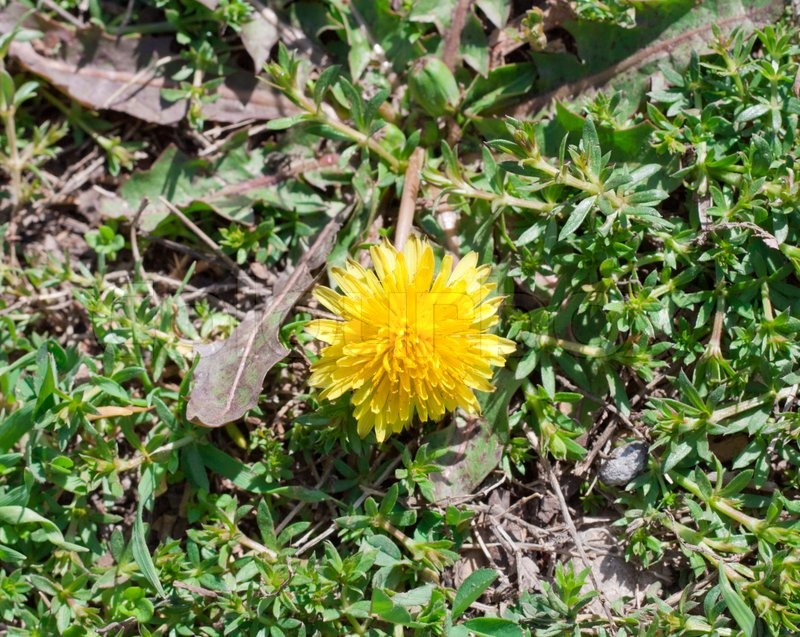dandelion: (302, 235, 509, 447)
